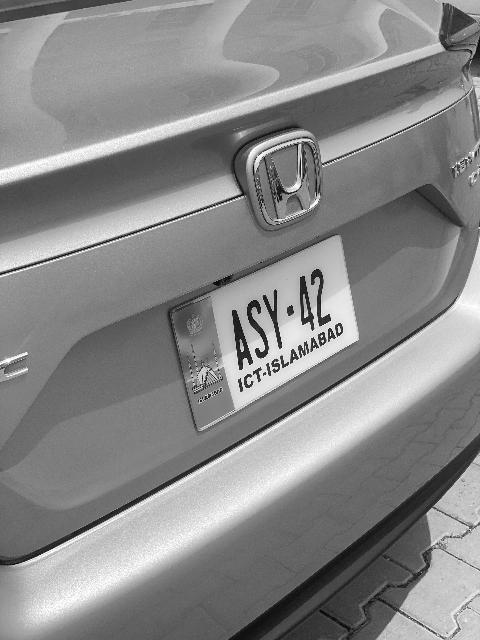Number: (216, 256, 337, 379)
